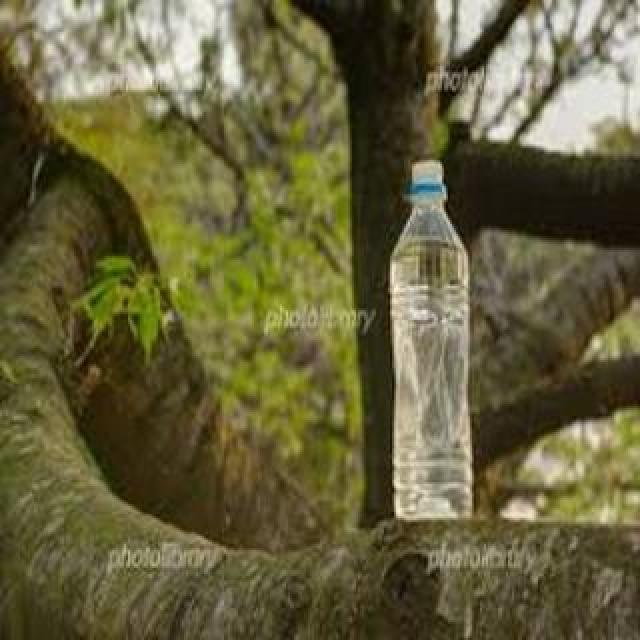Pet_Bottle: (386, 156, 474, 524)
